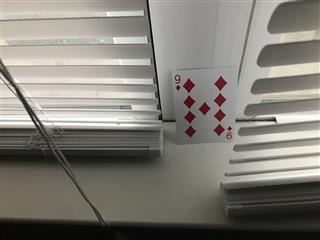NineOfDiamonds: (171, 65, 236, 144)
